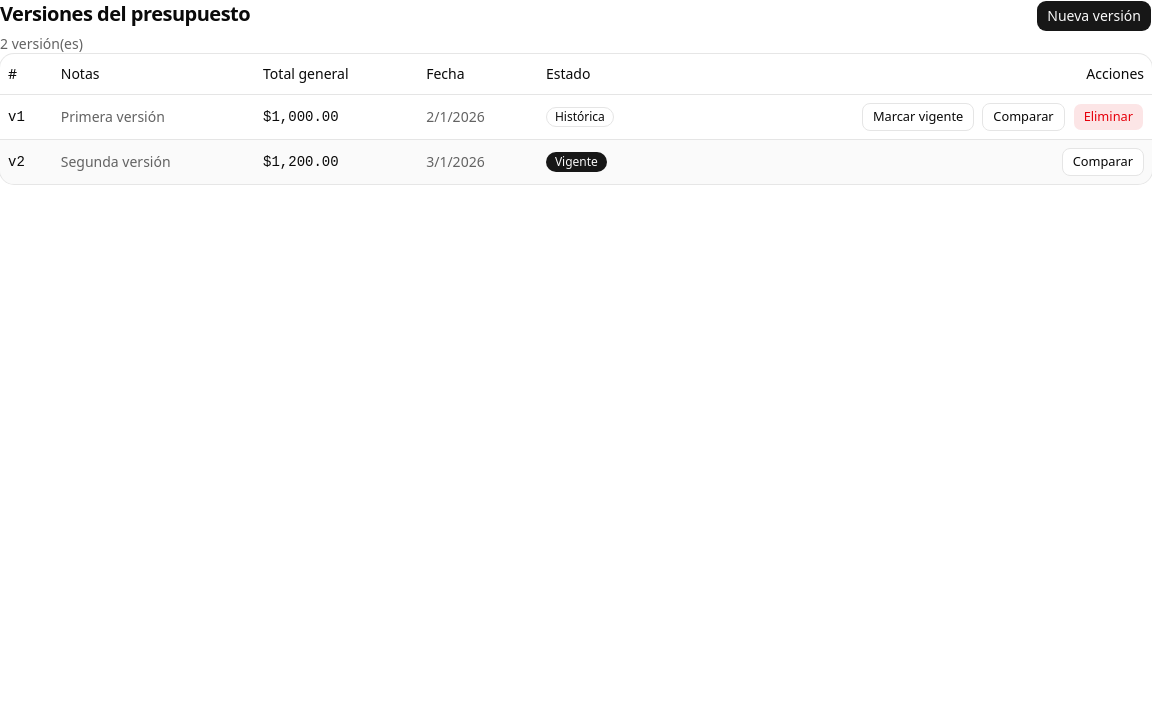
Scenario: VersionesPage › abre el diálogo de nueva versión
Check: the heading "Versiones del presupuesto" is shown, box [0,0,250,28]
Check: the text "v1" is shown, box [0,94,53,139]
Click the button "Nueva versión".
click(1094, 16)  # box [1036,0,1151,32]
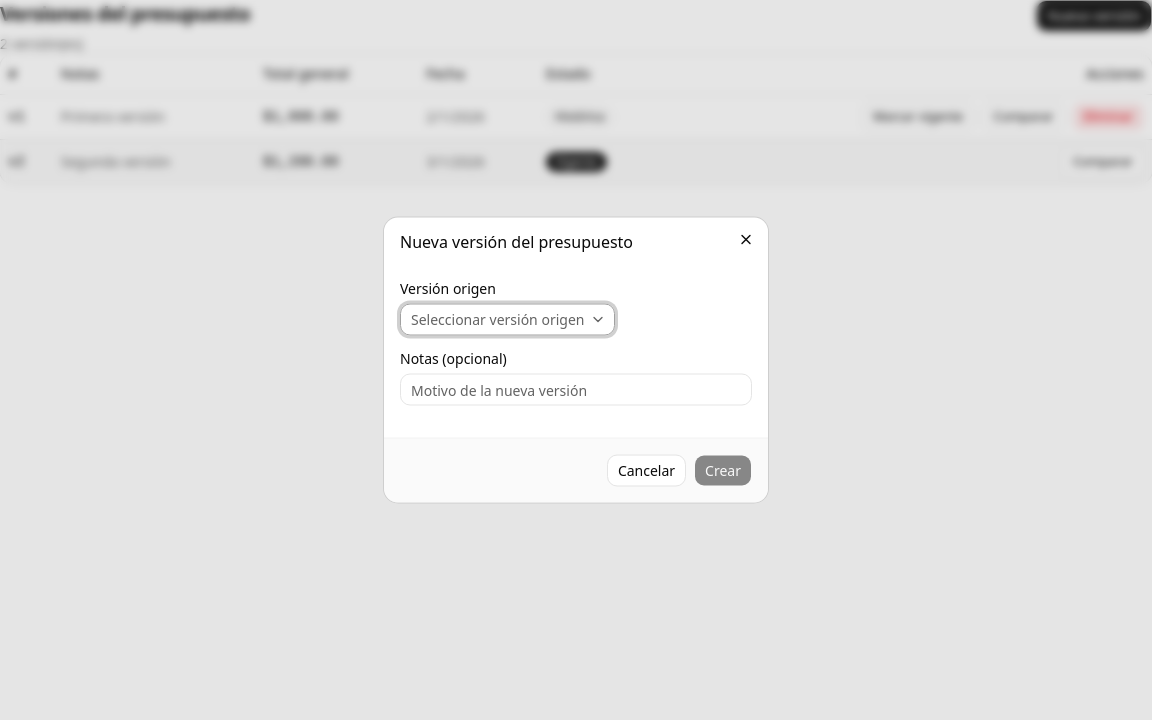
Check: the heading "Nueva versión del presupuesto" is shown, box [400,230,633,252]
